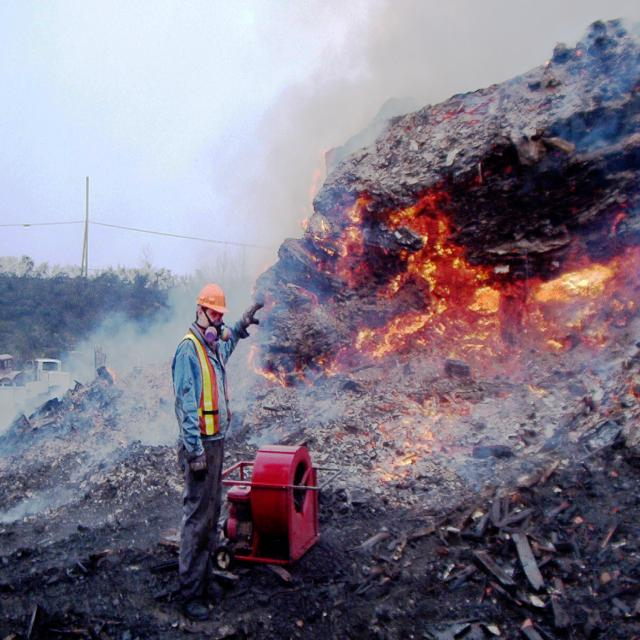api: (286, 184, 519, 369), (362, 386, 480, 489), (539, 255, 620, 311)
asap: (1, 267, 261, 456), (1, 410, 171, 536)
